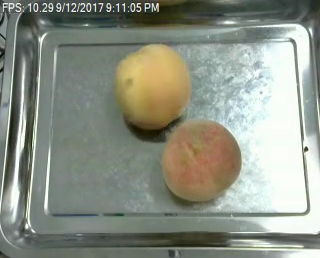Peach: (161, 117, 242, 201), (114, 41, 190, 130)
